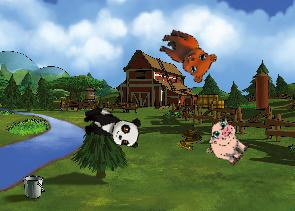bear: (151, 25, 220, 86)
panda: (78, 104, 144, 150)
pig: (199, 115, 255, 170)
